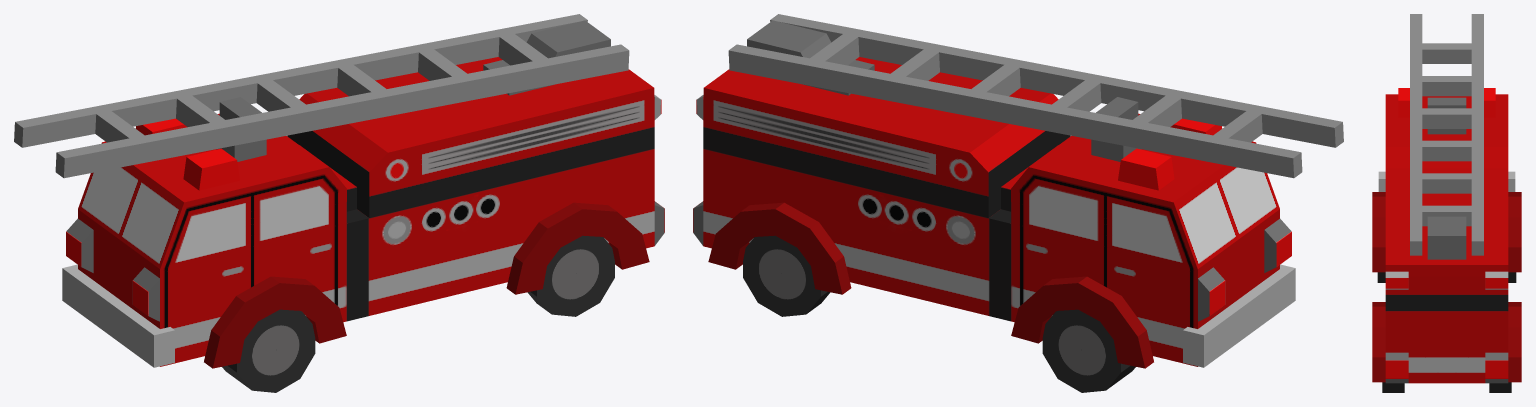
File: model_vehicle_fireTruck.fbx
The picture shows the model from 3 angles, left to right: view 1: azimuth 30°, elevation 25°; view 2: azimuth 150°, elevation 25°; view 3: azimuth 270°, elevation 25°; orthographic projection. The views are drawn at different scales.
Visible parts, largest first — view 1: mesh_firetruck; view 2: mesh_firetruck; view 3: mesh_firetruck.
Part boxes in pixels (<box>): mesh_firetruck: <box>14,14,664,392</box>; mesh_firetruck: <box>693,14,1343,392</box>; mesh_firetruck: <box>1372,14,1521,392</box>.
Bounding box in the file's own units: 755 × 327 × 224.
